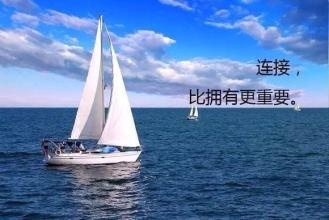fanchuan: (42, 12, 152, 165), (184, 101, 202, 122)
